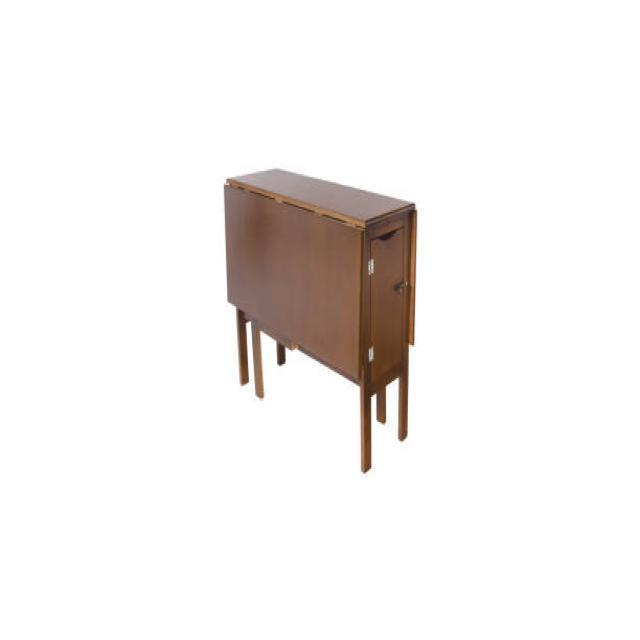table: (222, 165, 418, 472)
